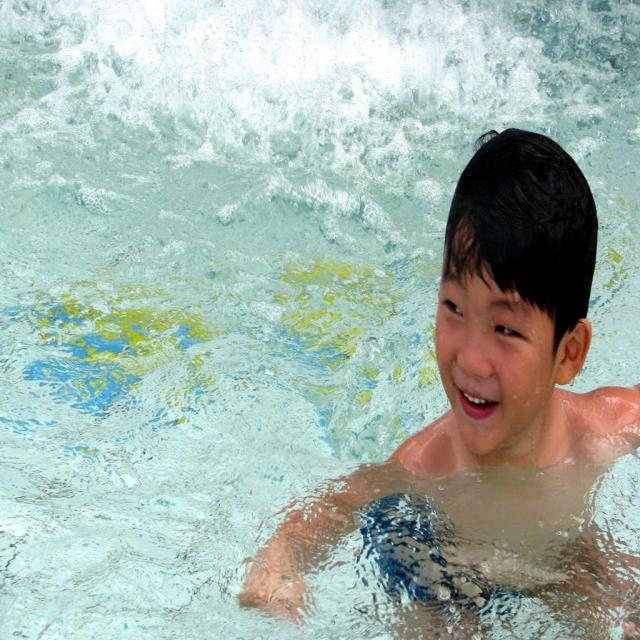Face: (418, 220, 573, 457)
